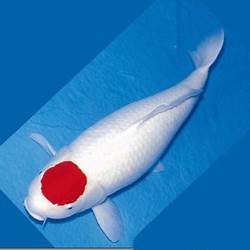sun: (21, 27, 225, 243)
